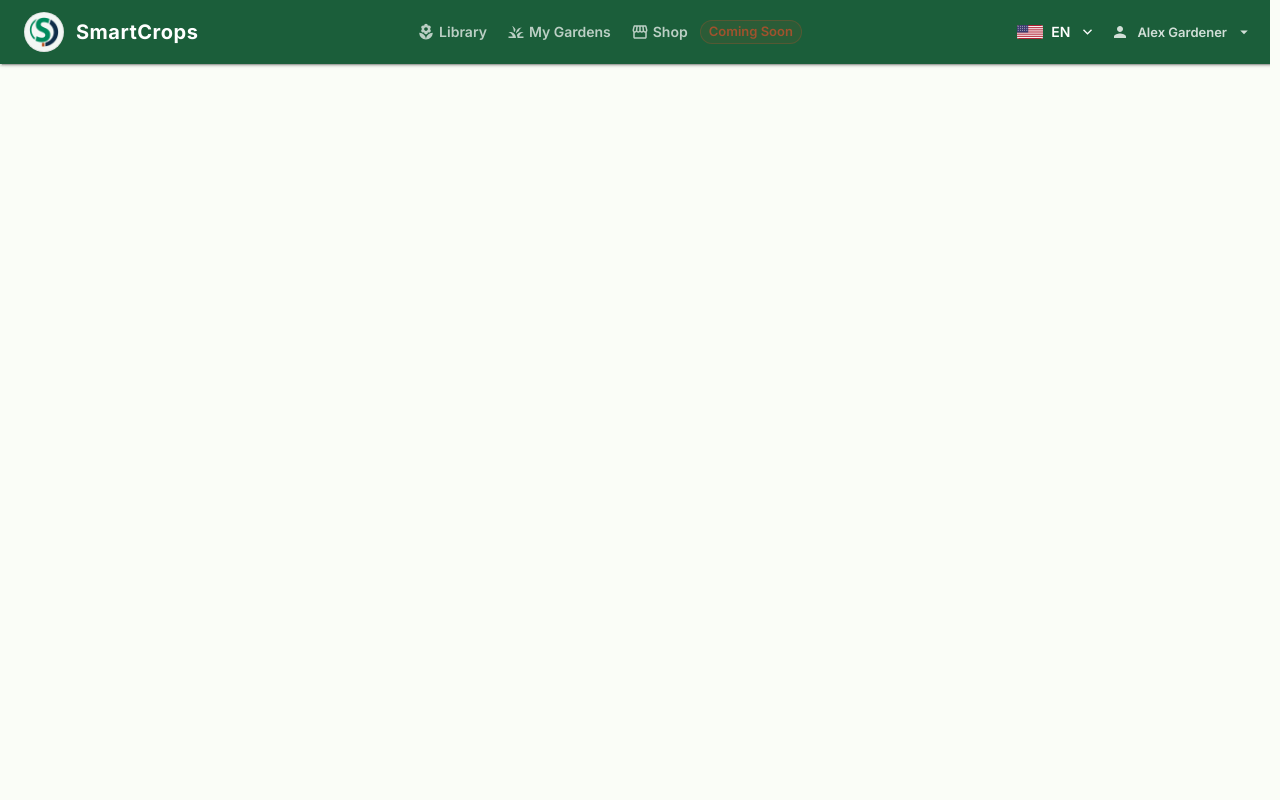
Test: Navbar v2 (SMA-152 / SMA-150) › offers the dark-mode destination in light mode and switches to it
Click the button "Alex Gardener". click: [1182, 32]
box: [1108,17,1256,47]
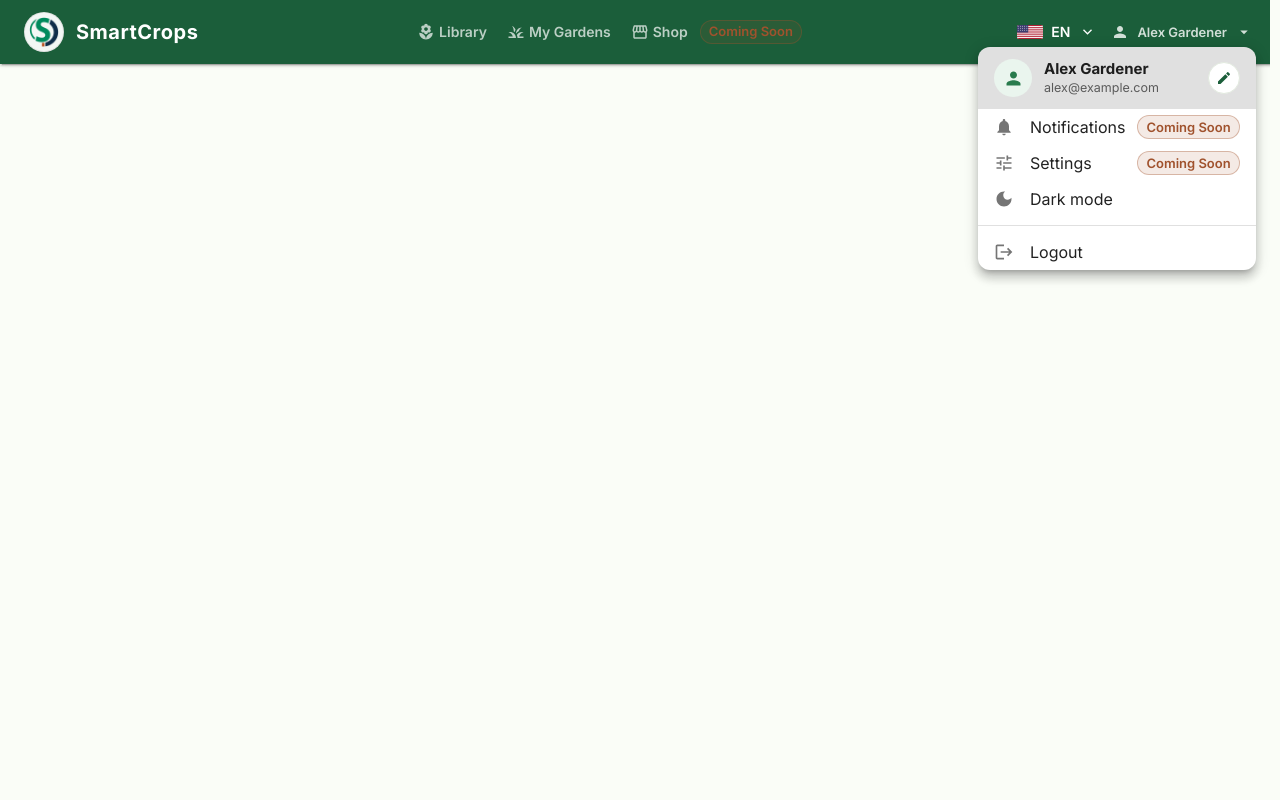
Click the menu item "Dark mode". click: [1053, 199]
box: [994,189,1113,209]
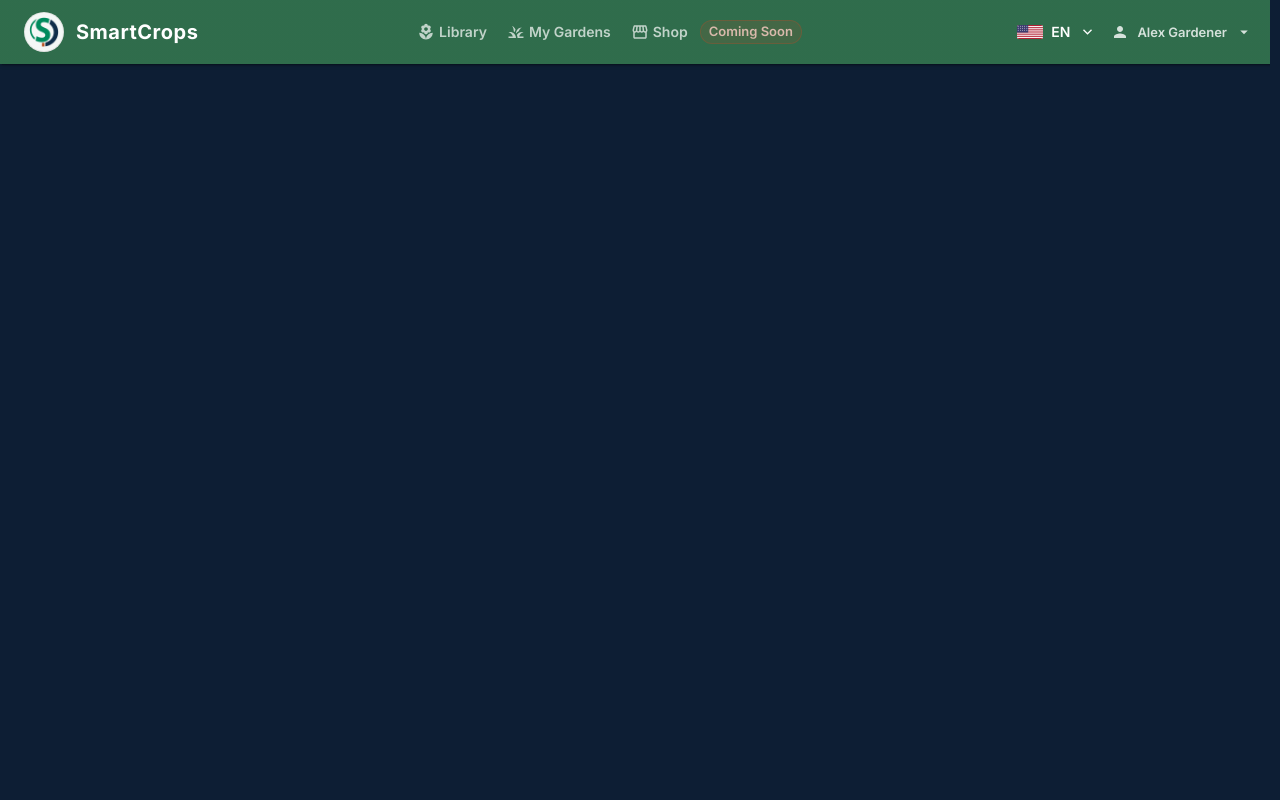
Expected: the menu is gone
